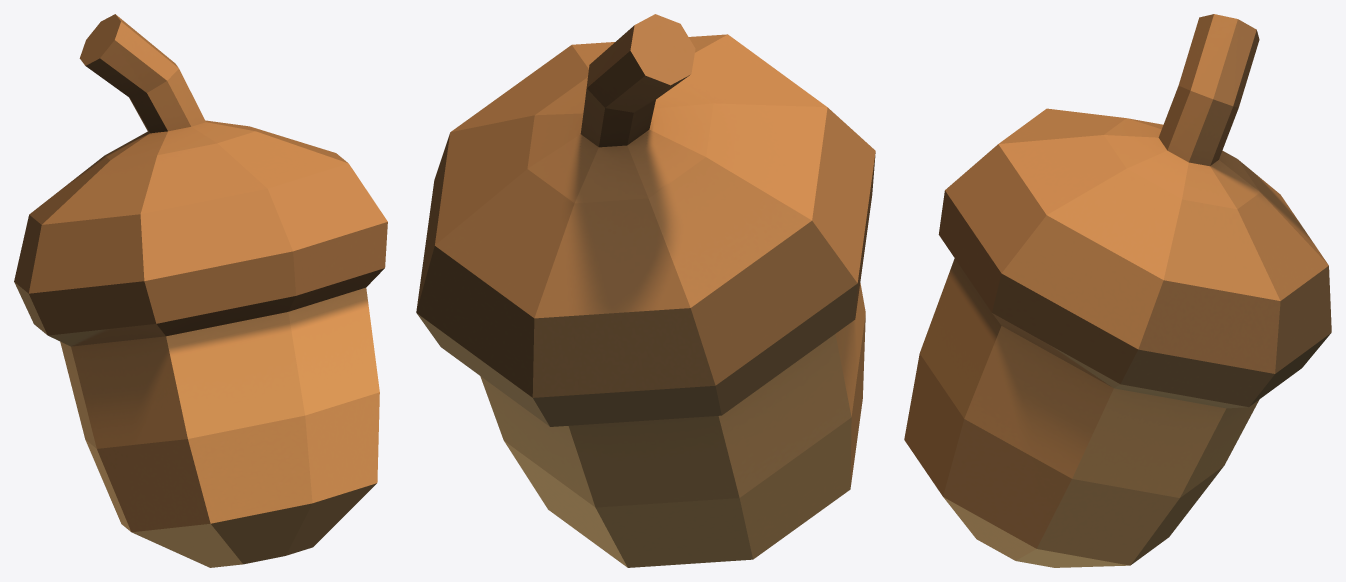
File: PUSHILIN_acorn.obj
3 views of the same model, side by side, from view 1: azimuth 30°, elevation 25°; view 2: azimuth 150°, elevation 25°; view 3: azimuth 270°, elevation 25° (orthographic). The views are drawn at different scales.
Parts seen in each view (by area): view 1: acorn; view 2: acorn; view 3: acorn.
Part boxes in pixels (x1,y1,x2,y2): acorn: (14, 14, 387, 567); acorn: (416, 14, 875, 567); acorn: (904, 14, 1331, 567).
Bounding box in the file's own units: 1.21 × 1.66 × 1.24.
1 material, 1 textured.
